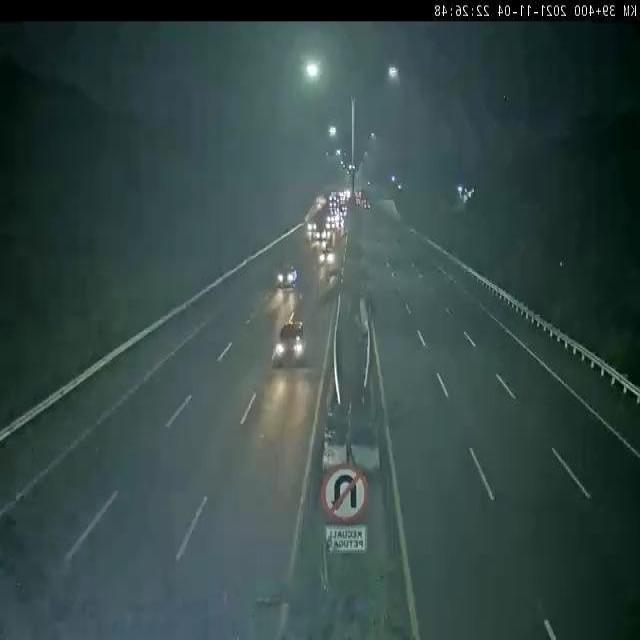Car: (270, 317, 312, 375), (274, 254, 300, 294), (318, 245, 339, 273)
